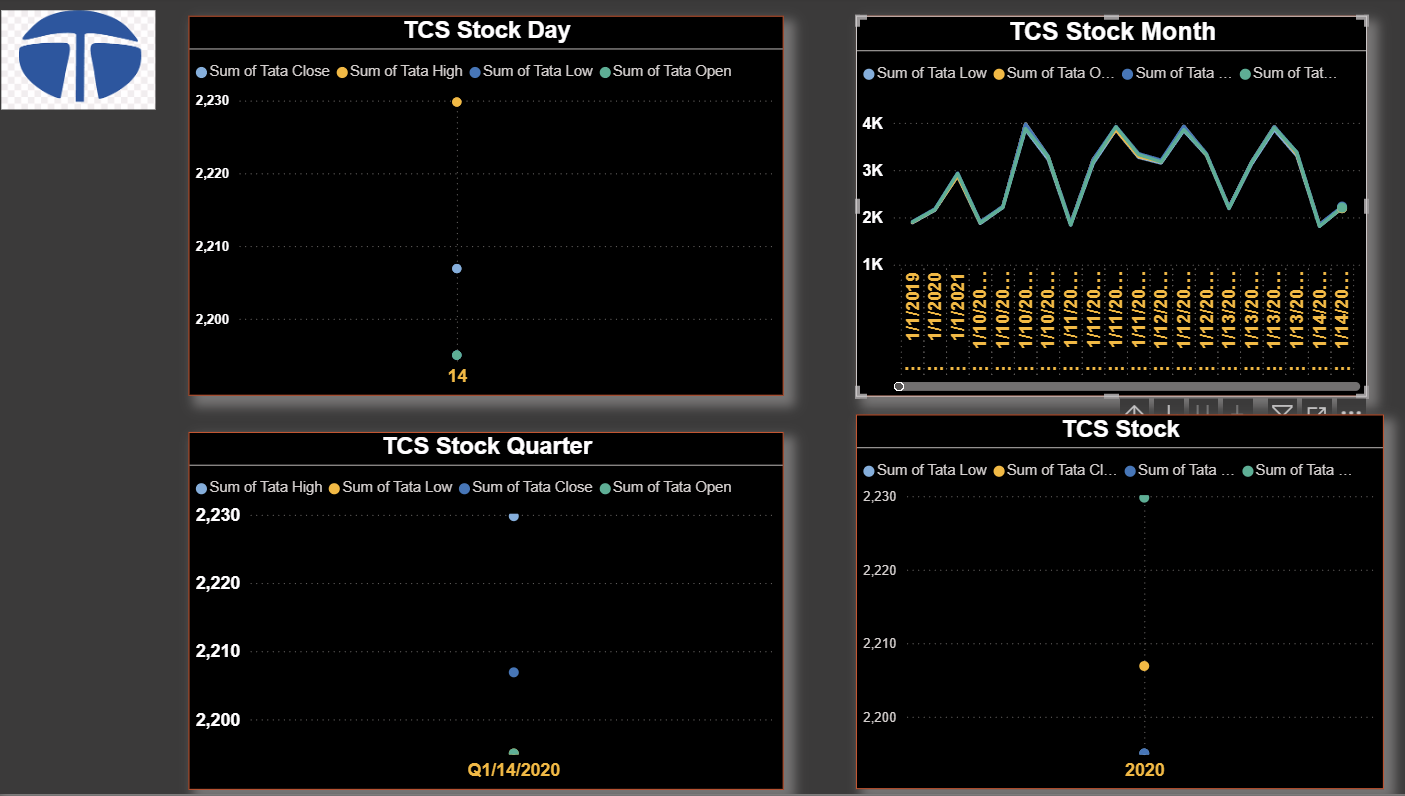

The dashboard page shown, as its layout file describes it:
{"tool":"powerbi","page":{"name":" Line Chart","canvas":[1280,720],"ordinal":1},"visuals":[{"type":"lineChart","title":" TCS Stock Day","fields":{"Y":["Sum(TCS NS.Tata Close)","Sum(TCS NS.Tata High)","Sum(TCS NS.Tata Low)","Sum(TCS NS.Tata Open)"],"Category":["TCS NS.Day"]},"box":[173.9,16.9,537.5,343.3],"z":0},{"type":"lineChart","title":" TCS Stock Month","fields":{"Category":["TCS NS.Month","TCS NS.Month"],"Y":["Sum(TCS NS.Tata Low)","Sum(TCS NS.Tata Open)","Sum(TCS NS.Tata High)","Sum(TCS NS.Tata Close)"]},"box":[776.9,16.9,461.8,344.4],"z":1000},{"type":"lineChart","title":" TCS Stock Quarter ","fields":{"Category":["TCS NS.Quarter"],"Y":["Sum(TCS NS.Tata High)","Sum(TCS NS.Tata Low)","Sum(TCS NS.Tata Close)","Sum(TCS NS.Tata Open)"]},"box":[173.9,392.9,537.5,322.9],"z":2000},{"type":"lineChart","title":" TCS Stock","fields":{"Category":["TCS NS.Year"],"Y":["Sum(TCS NS.Tata Low)","Sum(TCS NS.Tata Close)","Sum(TCS NS.Tata Open)","Sum(TCS NS.Tata High)"]},"box":[776.9,377.1,476.5,338.7],"z":3000},{"type":"image","box":[0,0,149,112.9],"z":4000}]}

Visuals, with their boxes in screenshot pixels (x1, y1, x2, y2), scaled from the page's 1280x720 canvas onto the 1405x796 screenshot:
" TCS Stock Day" lineChart: box(191, 19, 781, 398)
" TCS Stock Month" lineChart: box(853, 19, 1360, 399)
" TCS Stock Quarter " lineChart: box(191, 434, 781, 791)
" TCS Stock" lineChart: box(853, 417, 1376, 791)
image: box(0, 0, 164, 125)
